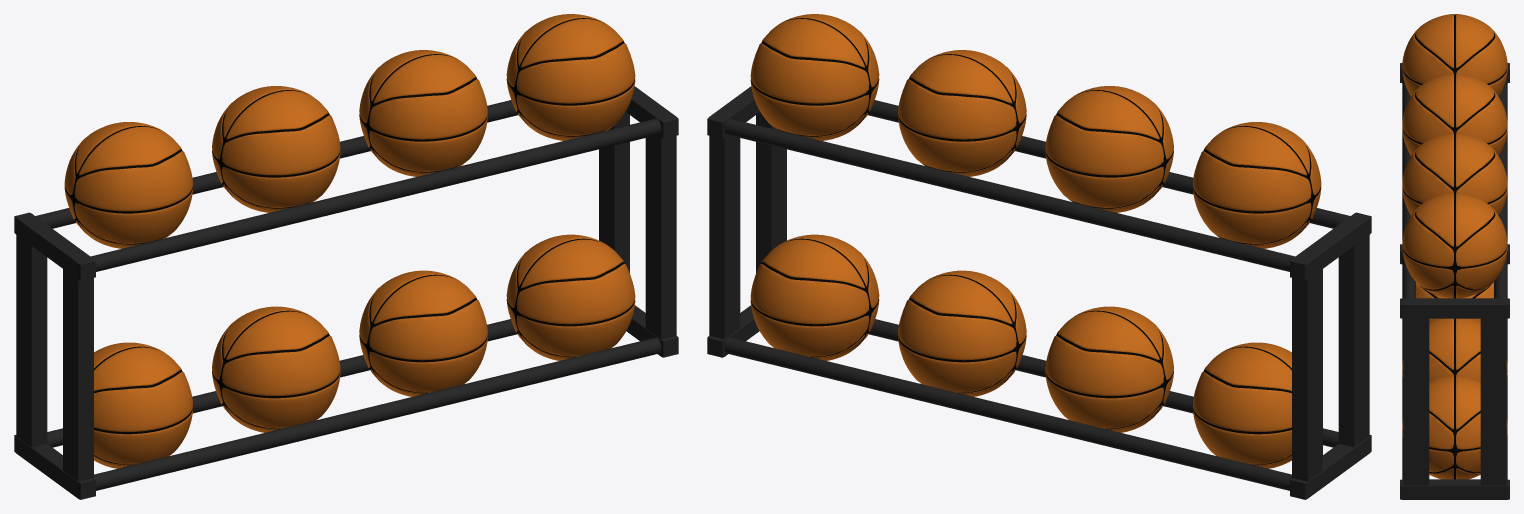
Rendered from ball-holder.fbx.
The picture shows the model from 3 angles, left to right: view 1: azimuth 30°, elevation 25°; view 2: azimuth 150°, elevation 25°; view 3: azimuth 270°, elevation 25°; orthographic projection. The views are drawn at different scales.
Parts seen in each view (by area): view 1: ball-holder; view 2: ball-holder; view 3: ball-holder.
Boxes of the visible parts, x1,y1,x2,y2 form: ball-holder: [14, 14, 678, 499]; ball-holder: [707, 14, 1371, 499]; ball-holder: [1400, 14, 1509, 499].
Size of the model in its own units: 1379 by 740 by 265.
